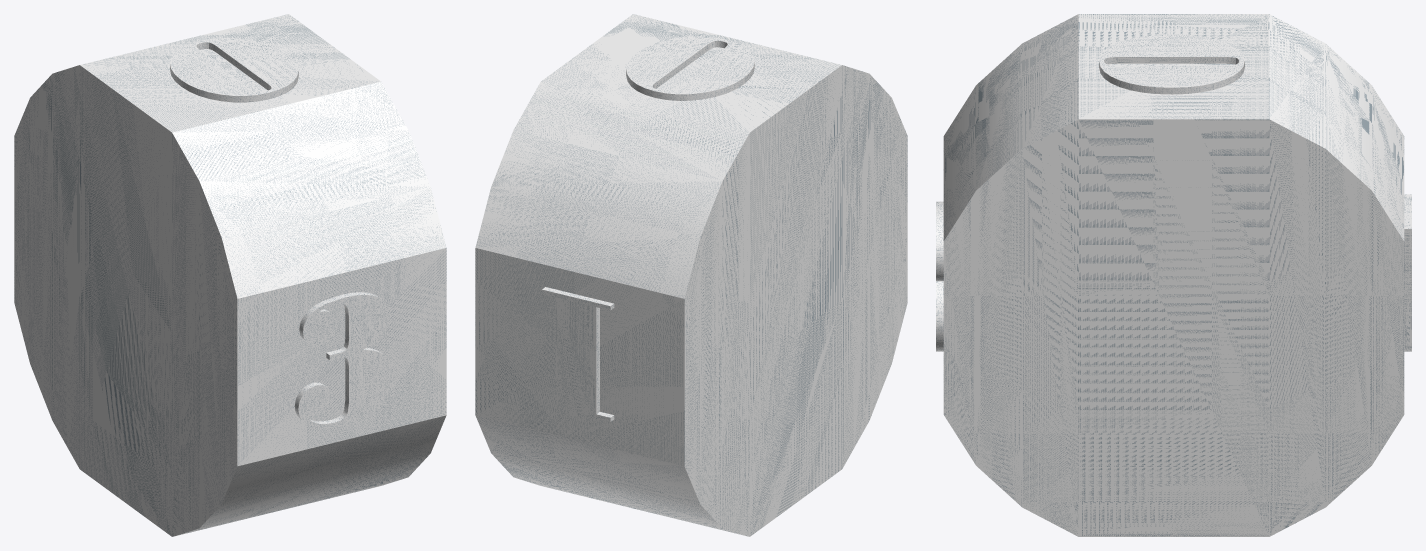
File: cptA.fbx
The picture shows the model from 3 angles, left to right: view 1: azimuth 30°, elevation 25°; view 2: azimuth 150°, elevation 25°; view 3: azimuth 270°, elevation 25°; orthographic projection. The views are drawn at different scales.
Visible parts, largest first — view 1: Model, G_3_1, G_0_1; view 2: Model, G_0_1, G_1_1; view 3: Model, G_0_1, G_1_1, G_3_1.
Part boxes in pixels (x1=…): Model: x1=14, y1=14, x2=446, y2=536; G_3_1: x1=294, y1=292, x2=394, y2=428; G_0_1: x1=170, y1=38, x2=298, y2=102; Model: x1=475, y1=14, x2=907, y2=536; G_0_1: x1=626, y1=36, x2=754, y2=100; G_1_1: x1=542, y1=287, x2=614, y2=421; Model: x1=943, y1=14, x2=1404, y2=536; G_0_1: x1=1099, y1=34, x2=1244, y2=94; G_1_1: x1=1404, y1=194, x2=1411, y2=351; G_3_1: x1=936, y1=201, x2=943, y2=351.
Bounding box in the file's own units: 1 × 1.91 × 1.91.
